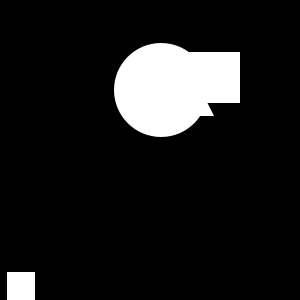circle: (189, 52, 240, 103), (7, 272, 35, 300)
rectangle: (114, 43, 208, 137)
triangle: (146, 48, 214, 116)
